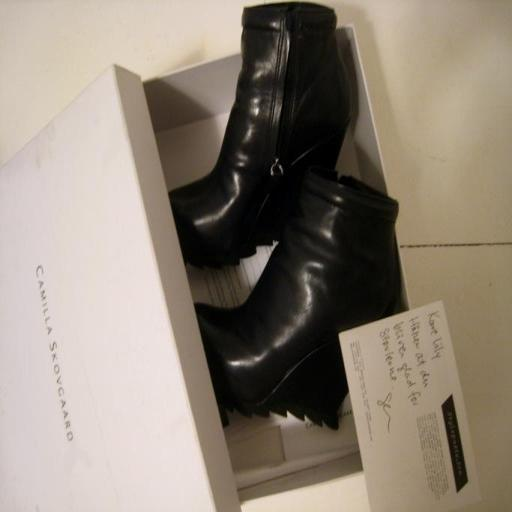boots: (196, 169, 400, 428), (170, 3, 350, 266)
